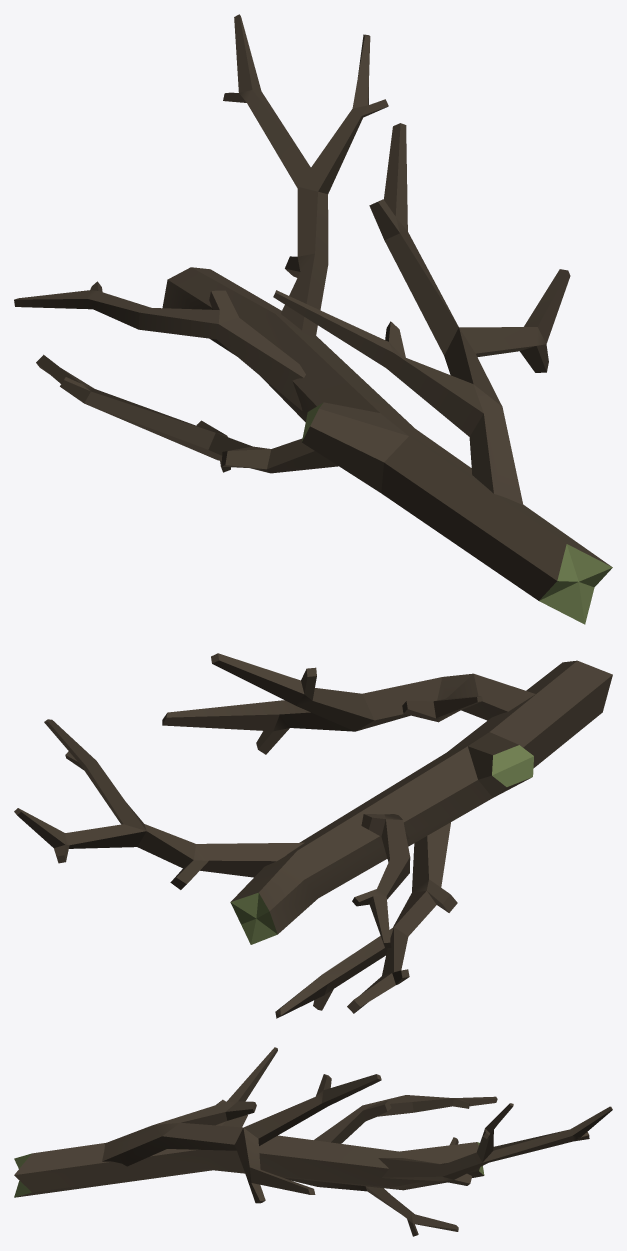
The model's file is SM_Tree_Branch_01.fbx.
The picture shows the model from 3 angles, top to bottom: view 1: azimuth 30°, elevation 25°; view 2: azimuth 150°, elevation 25°; view 3: azimuth 270°, elevation 25°; orthographic projection. The views are drawn at different scales.
Parts seen in each view (by area): view 1: SM_Tree_Branch_01; view 2: SM_Tree_Branch_01; view 3: SM_Tree_Branch_01.
Part boxes in pixels (x1,y1,x2,y2): SM_Tree_Branch_01: [14, 14, 612, 624]; SM_Tree_Branch_01: [14, 653, 612, 1018]; SM_Tree_Branch_01: [14, 1047, 612, 1236].
Size of the model in its own units: 51.36 by 40.87 by 108.
1 material, 1 textured.
